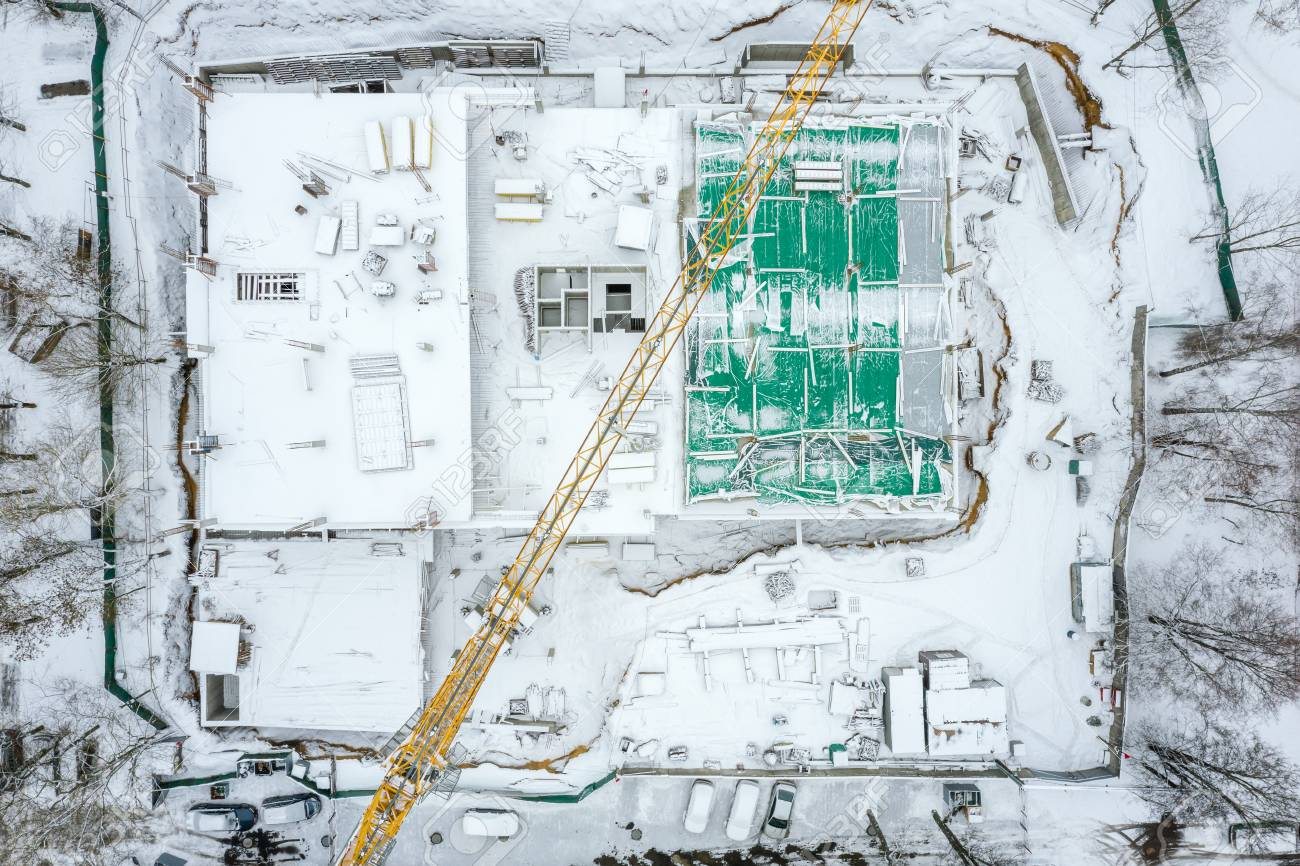crane: (330, 1, 876, 862)
